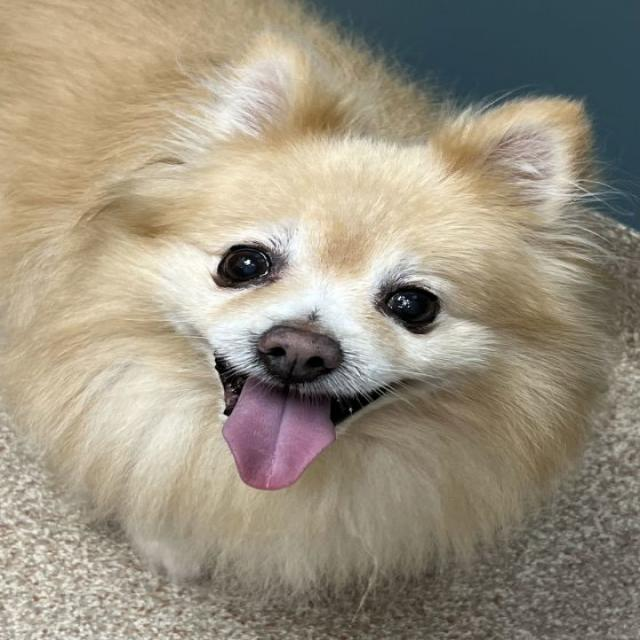pomeranian_dog: (69, 13, 612, 535)
